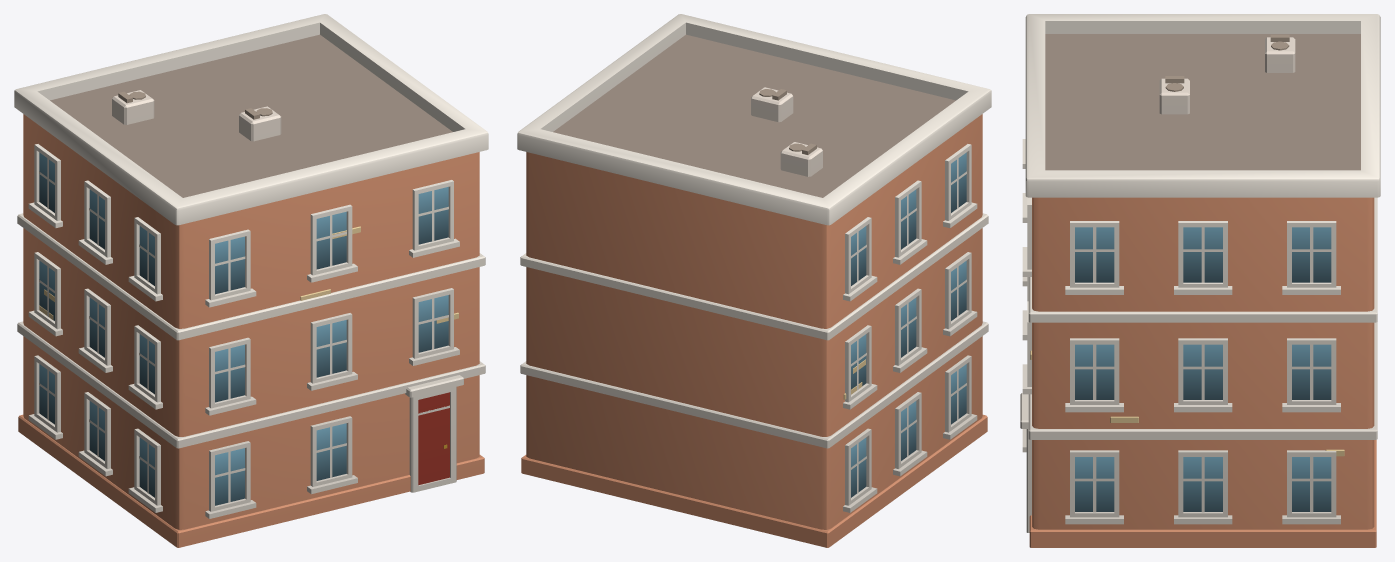
Rendered from vee_left2.glb.
The picture shows the model from 3 angles, left to right: view 1: azimuth 30°, elevation 25°; view 2: azimuth 150°, elevation 25°; view 3: azimuth 270°, elevation 25°; orthographic projection. The views are drawn at different scales.
Parts seen in each view (by area): view 1: vee_left2; view 2: vee_left2; view 3: vee_left2.
Part boxes in pixels (left/top/right/bottom): vee_left2: left=14, top=14, right=488, bottom=547; vee_left2: left=517, top=14, right=991, bottom=547; vee_left2: left=1020, top=14, right=1380, bottom=547.
Bounding box in the file's own units: 10.48 × 11.11 × 9.46.
1 material, 1 textured.
